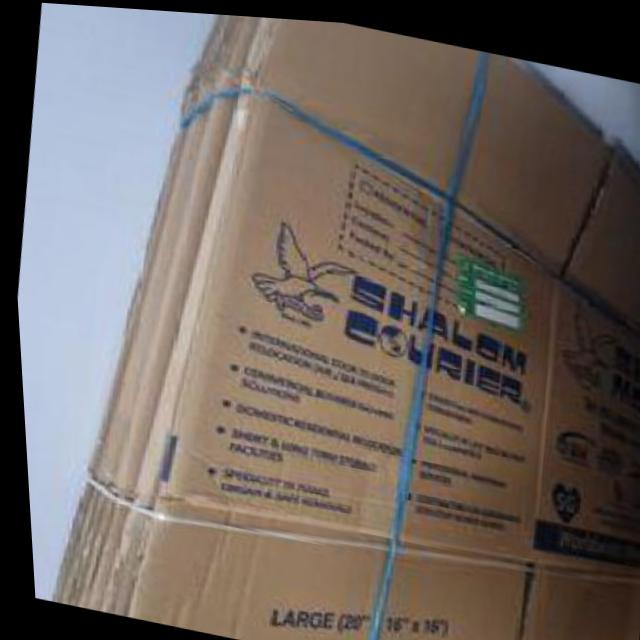box: (6, 0, 640, 640)
